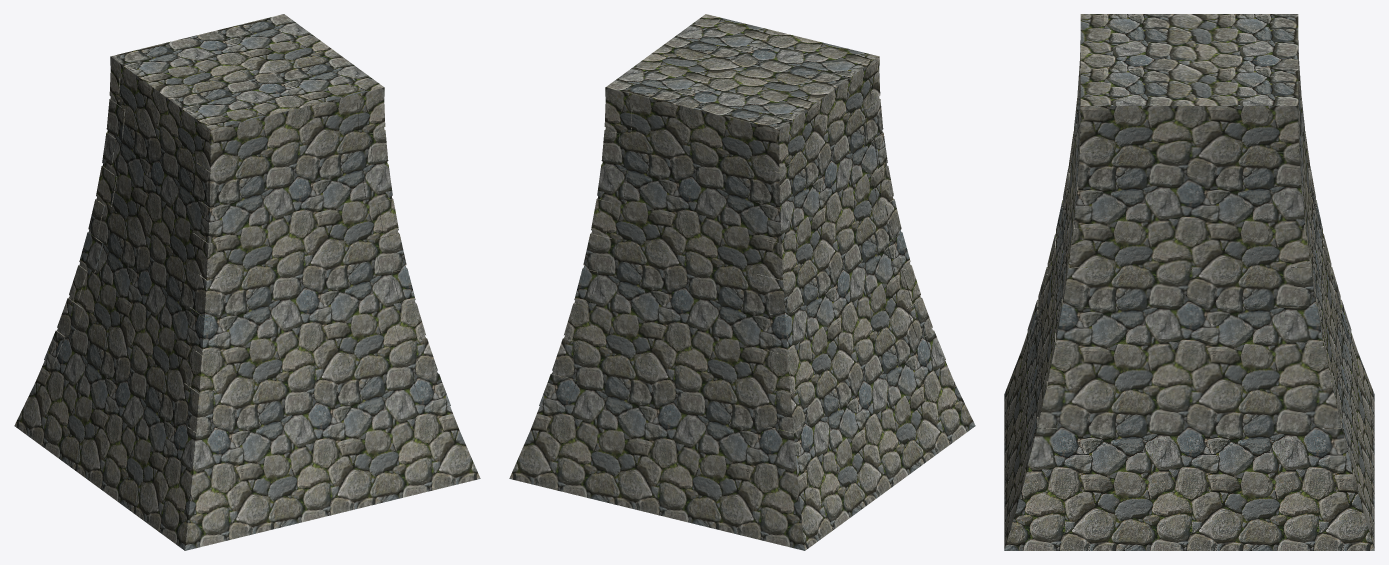
File: castle_ishigaki_corner.glb
The picture shows the model from 3 angles, left to right: view 1: azimuth 30°, elevation 25°; view 2: azimuth 150°, elevation 25°; view 3: azimuth 270°, elevation 25°; orthographic projection. The views are drawn at different scales.
Parts seen in each view (by area): view 1: ishigaki_corner_castle_stone; view 2: ishigaki_corner_castle_stone; view 3: ishigaki_corner_castle_stone.
Boxes of the visible parts, left/top/right/bottom form: ishigaki_corner_castle_stone: left=14, top=14, right=480, bottom=550; ishigaki_corner_castle_stone: left=509, top=14, right=975, bottom=550; ishigaki_corner_castle_stone: left=1004, top=14, right=1374, bottom=550.
Bounding box in the file's own units: 8.1 × 9.96 × 8.1.
1 material, 1 textured.
